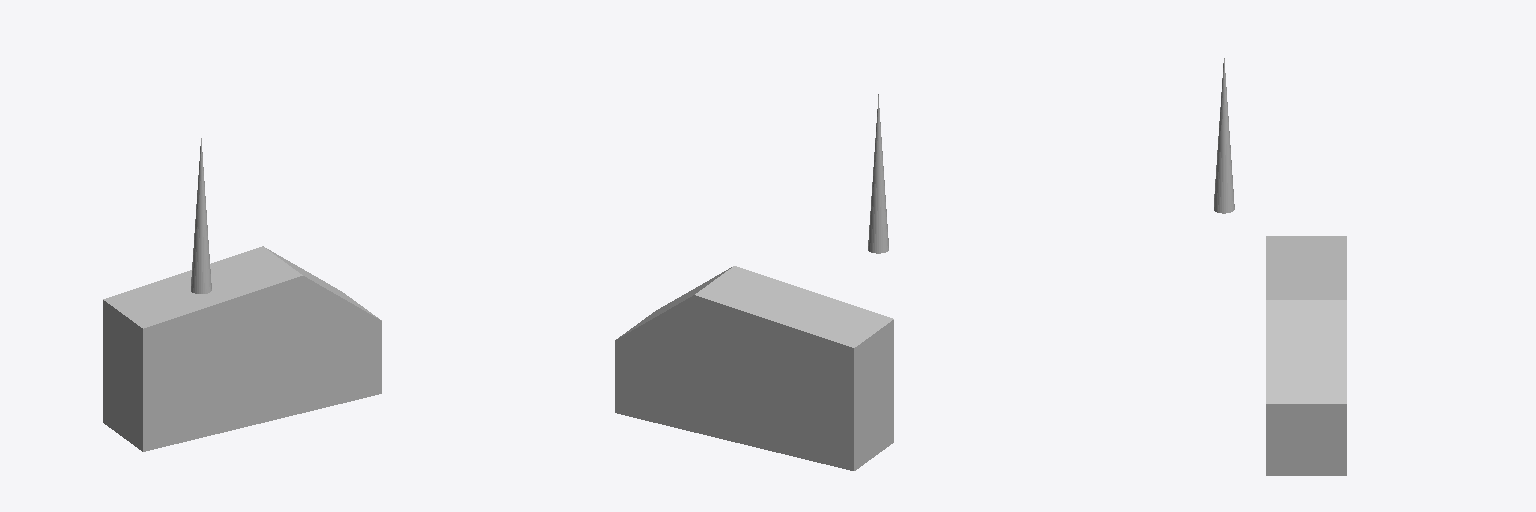
Rendered from CAR.obj.
3 renders of one model, left to right at view 1: azimuth 30°, elevation 25°; view 2: azimuth 150°, elevation 25°; view 3: azimuth 270°, elevation 25°, orthographic.
Parts seen in each view (by area): view 1: Cube_Cube.001; view 2: Cube_Cube.001; view 3: Cube_Cube.001.
Boxes of the visible parts, x1=… form: Cube_Cube.001: x1=103, y1=138, x2=381, y2=451; Cube_Cube.001: x1=615, y1=94, x2=893, y2=470; Cube_Cube.001: x1=1214, y1=58, x2=1346, y2=475.
Bounding box in the file's own units: 6.9 × 8.92 × 3.32.